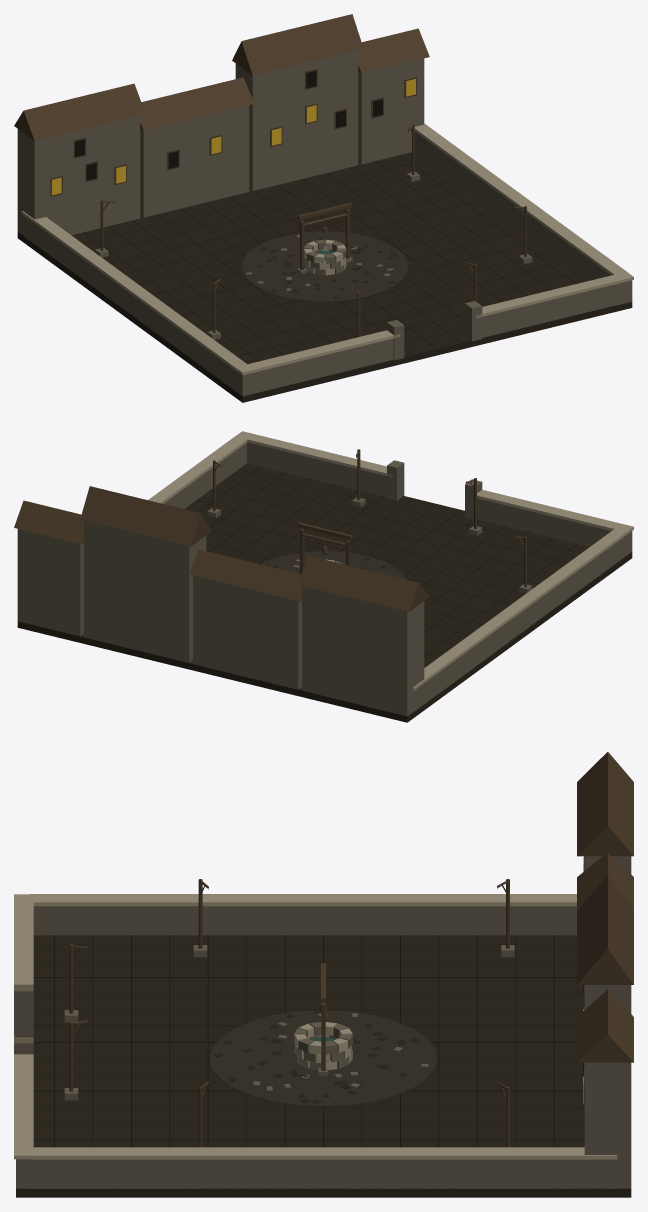
Rendered from MarketYard.fbx.
The picture shows the model from 3 angles, top to bottom: view 1: azimuth 30°, elevation 25°; view 2: azimuth 150°, elevation 25°; view 3: azimuth 270°, elevation 25°; orthographic projection. The views are drawn at different scales.
Visible parts, largest first — view 1: MarketYard; view 2: MarketYard; view 3: MarketYard.
Part boxes in pixels (x1,y1,x2,y2): MarketYard: (14,14,633,402); MarketYard: (14,431,633,722); MarketYard: (14,752,633,1197).
Size of the model in its own units: 2030 by 741 by 2017.
Materials: 9 (9 with a texture image).
